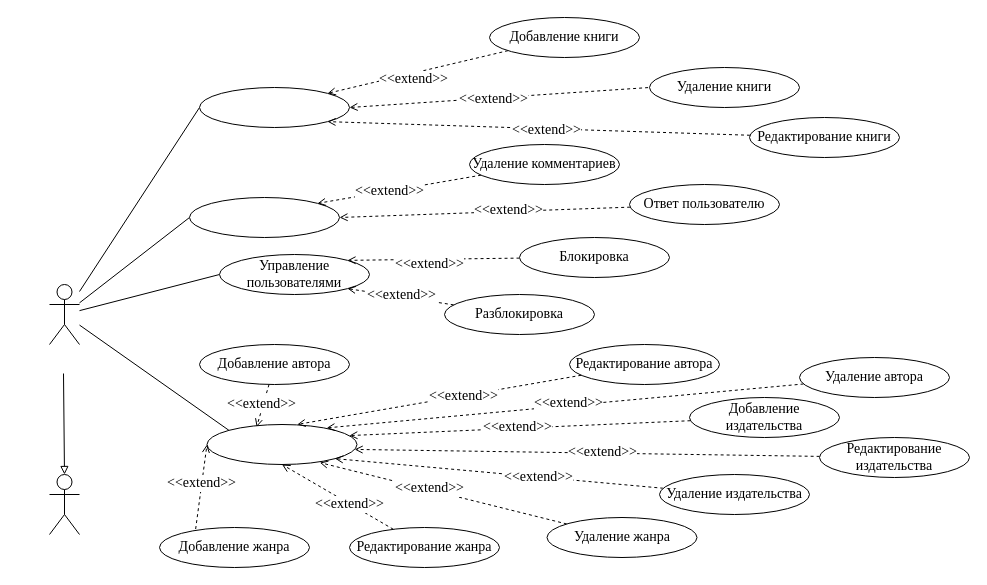
This 987x585 diagram has some shape labels left out. Each missing label, with the centre of its shape:
Администратор: (x=64, y=314)
Пользователь: (x=64, y=504)
Управление книгами: (x=274, y=107)
Управление комментариями: (x=264, y=217)
Управление справочниками: (x=281, y=444)
